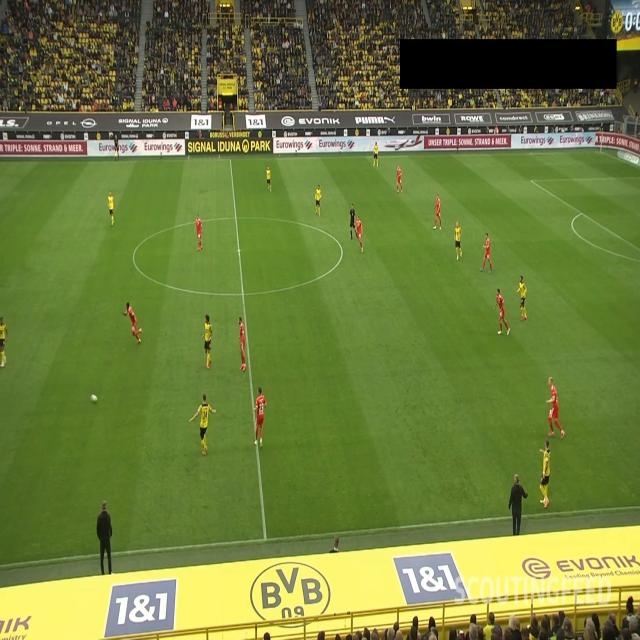ball: (90, 393, 98, 404)
